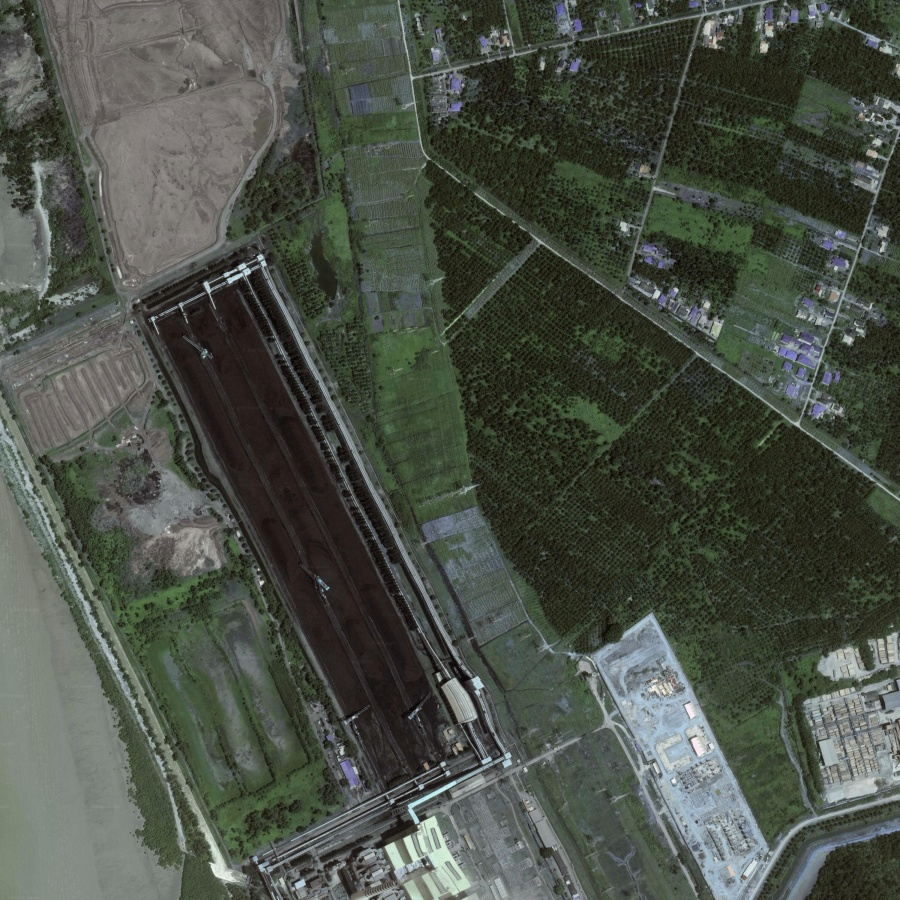PowerPlant: (157, 256, 480, 794)
